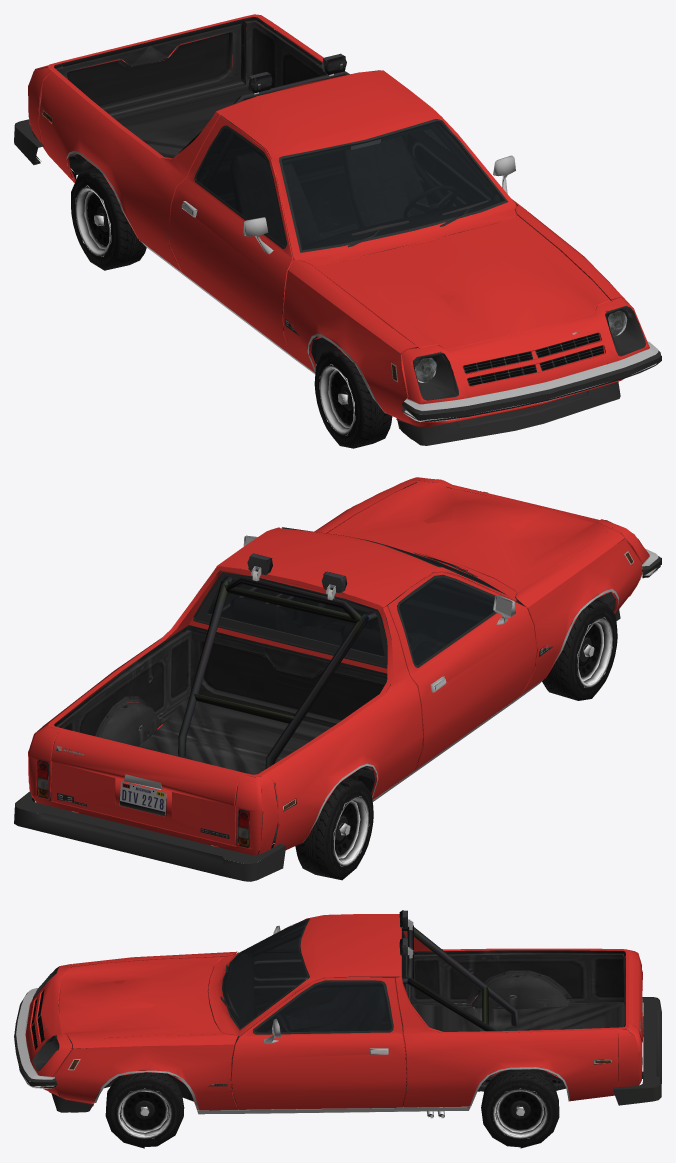
The model's file is doutrive-78.glb.
The picture shows the model from 3 angles, top to bottom: view 1: azimuth 30°, elevation 25°; view 2: azimuth 150°, elevation 25°; view 3: azimuth 270°, elevation 25°; orthographic projection. The views are drawn at different scales.
Parts seen in each view (by area): view 1: DOUTRIVE78_Blinkers_UCB_Lights_and_Glass_0; view 2: DOUTRIVE78_Blinkers_UCB_Lights_and_Glass_0; view 3: DOUTRIVE78_Blinkers_UCB_Lights_and_Glass_0.
Boxes of the visible parts, x1,y1,x2,y2 form: DOUTRIVE78_Blinkers_UCB_Lights_and_Glass_0: [14, 14, 661, 448]; DOUTRIVE78_Blinkers_UCB_Lights_and_Glass_0: [14, 477, 661, 881]; DOUTRIVE78_Blinkers_UCB_Lights_and_Glass_0: [14, 910, 661, 1148].
Bounding box in the file's own units: 1.66 × 1.33 × 4.5.
8 materials, 7 textured.
